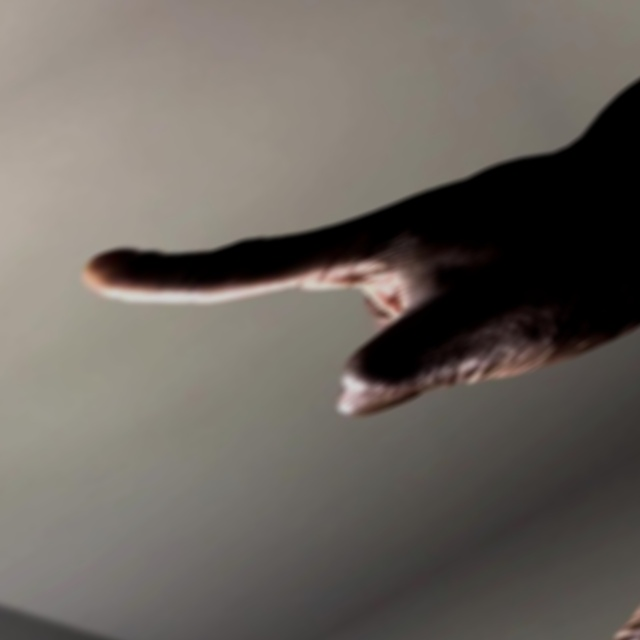Scissors: (80, 23, 640, 556)
